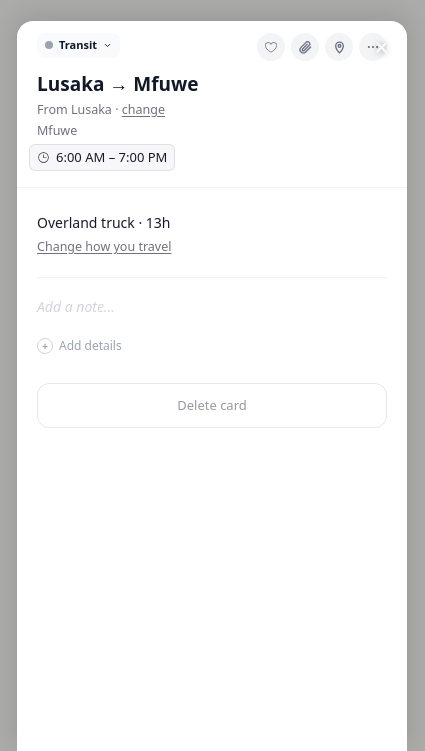
Test: CardBottomSheet — a travel leg (7 Oct 2026) › says 'Overland truck · 13h' once, and keeps the pills behind 'Change how you travel'
The width and height of the screenshot is (425, 751).
Expected: the text "Overland truck · 13h" is shown once, 37,213 -> 170,232
Click the button "Change how you travel" at (104, 248), box 37,238 -> 172,257
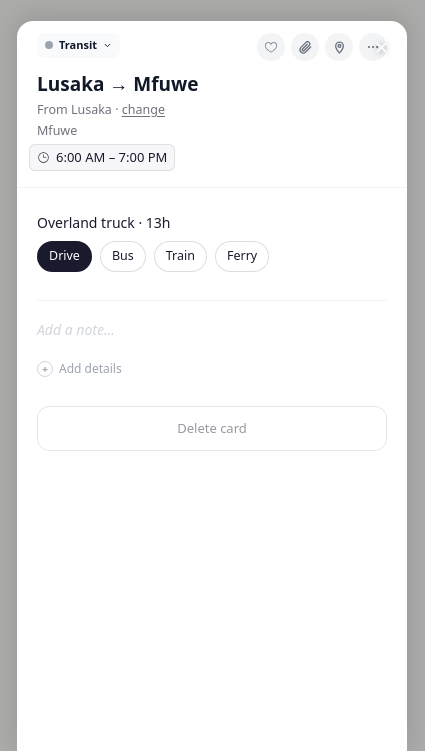
Expected: the number of radio buttons is 4, 37,241 -> 92,272; 100,241 -> 146,272; 154,241 -> 207,272; 215,241 -> 269,272
